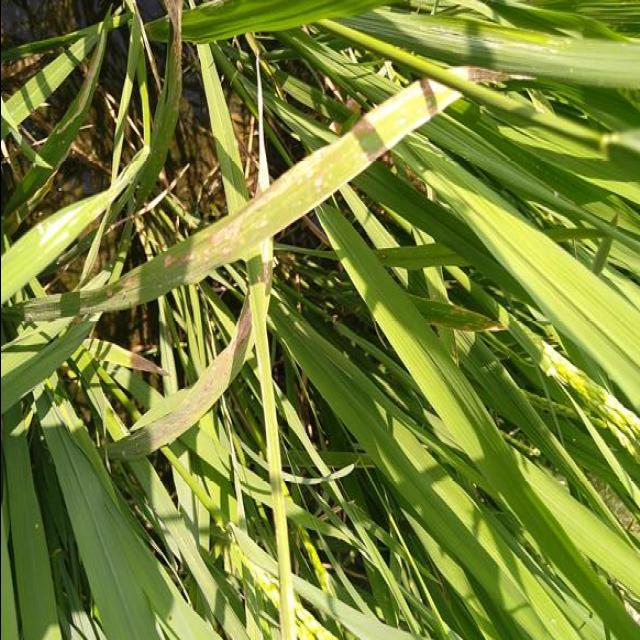Leaf Streak: (0, 78, 460, 320), (107, 288, 251, 458), (129, 0, 181, 216), (255, 51, 268, 194), (456, 68, 536, 88), (257, 239, 276, 302)
